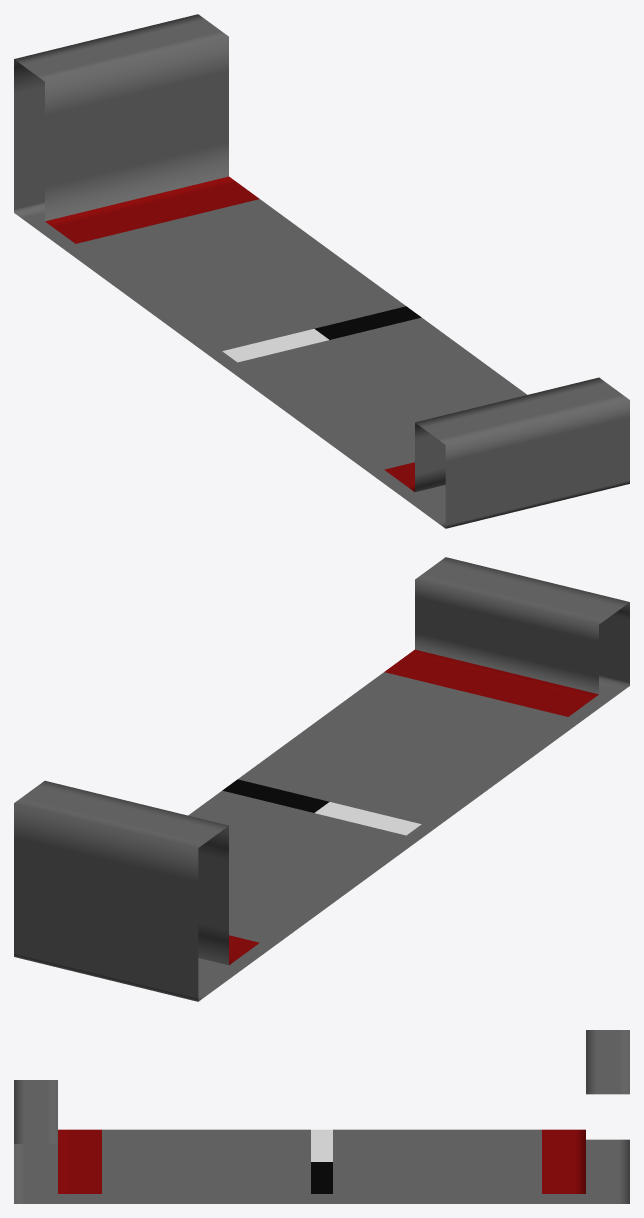
The model's file is TrackSlice.fbx.
The picture shows the model from 3 angles, top to bottom: view 1: azimuth 30°, elevation 25°; view 2: azimuth 150°, elevation 25°; view 3: azimuth 270°, elevation 25°; orthographic projection. The views are drawn at different scales.
Parts seen in each view (by area): view 1: TrackSliceNewTopology; view 2: TrackSliceNewTopology; view 3: TrackSliceNewTopology.
Boxes of the visible parts, x1,y1,x2,y2 form: TrackSliceNewTopology: [14, 14, 629, 528]; TrackSliceNewTopology: [14, 557, 629, 1001]; TrackSliceNewTopology: [14, 1030, 629, 1203].
Size of the model in its own units: 690 by 550 by 2800.
